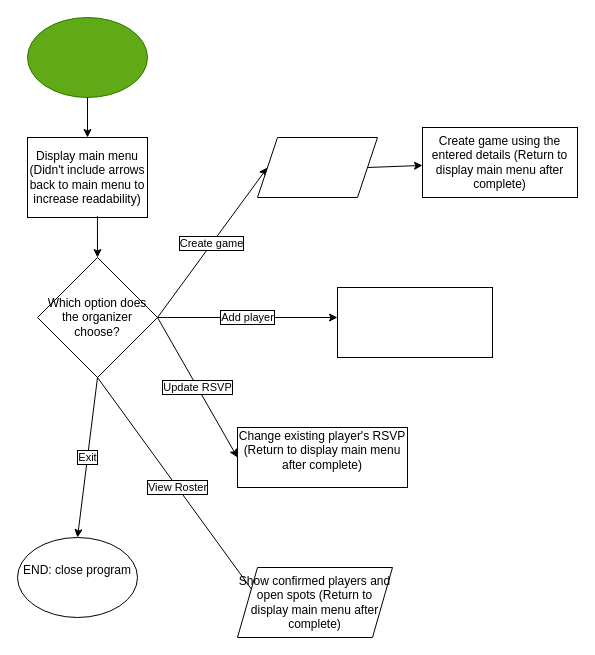
Some shapes in this 595 by 655 pixel diagram are drawn without their labels. Here are the shapes that lost their labels. From the top down, the centre of each, then its label:
At (x=87, y=57): "Start: run program".
At (x=317, y=167): "Enter date, location, and player limit".
At (x=414, y=322): "Add player and RSVP to active game (Return to display main menu after complete)".
